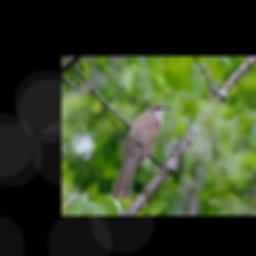Cuckoo: (111, 103, 172, 200)
